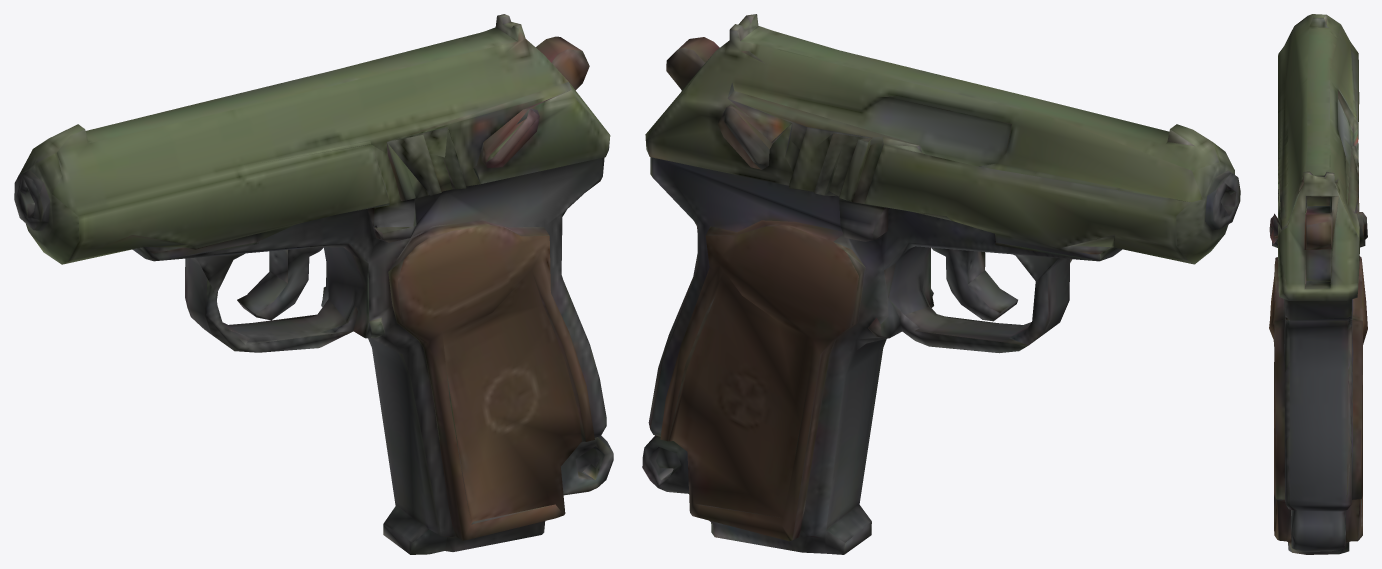
File: pistol.glb
3 views of the same model, side by side, from view 1: azimuth 30°, elevation 25°; view 2: azimuth 150°, elevation 25°; view 3: azimuth 270°, elevation 25° (orthographic). The views are drawn at different scales.
Parts seen in each view (by area): view 1: Mesh1.0; view 2: Mesh1.0; view 3: Mesh1.0.
Boxes of the visible parts, left/top/right/bottom form: Mesh1.0: left=14, top=14, right=613, bottom=554; Mesh1.0: left=642, top=14, right=1240, bottom=554; Mesh1.0: left=1269, top=14, right=1367, bottom=554.
Bounding box in the file's own units: 1.91 × 1.61 × 0.3841.
1 material, 1 textured.
